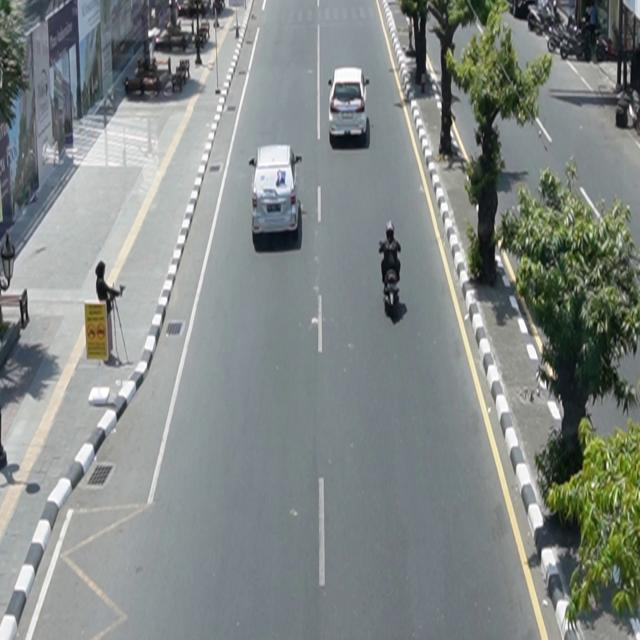car: (249, 145, 303, 238), (329, 67, 371, 140)
